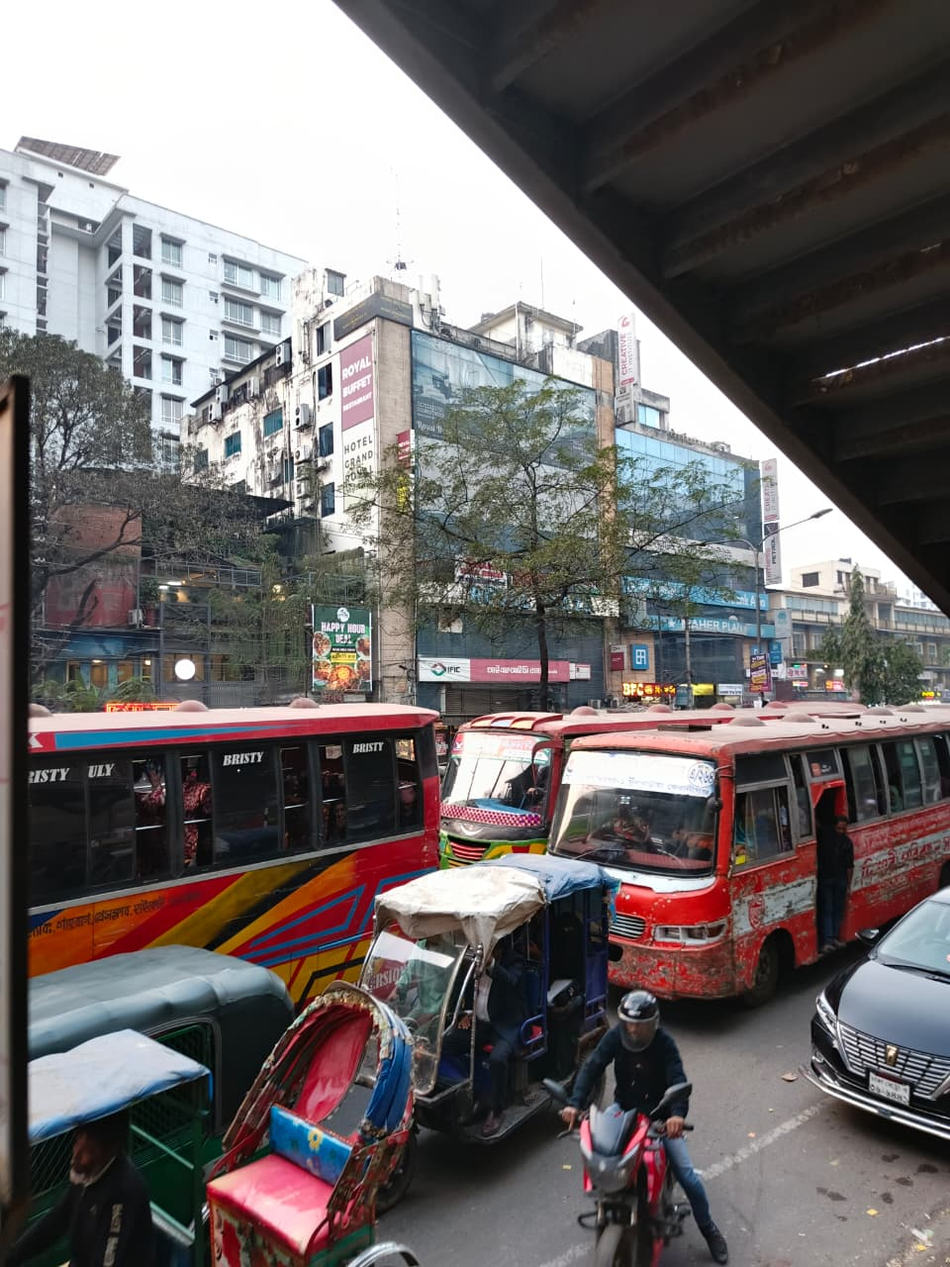Bikes: (544, 1055, 796, 1267)
Bus: (470, 688, 950, 931), (32, 698, 467, 951)
auto-ricksaw: (25, 1045, 524, 1238), (359, 867, 618, 1121)
cng: (27, 953, 299, 1050)
private car: (826, 884, 950, 1169)
